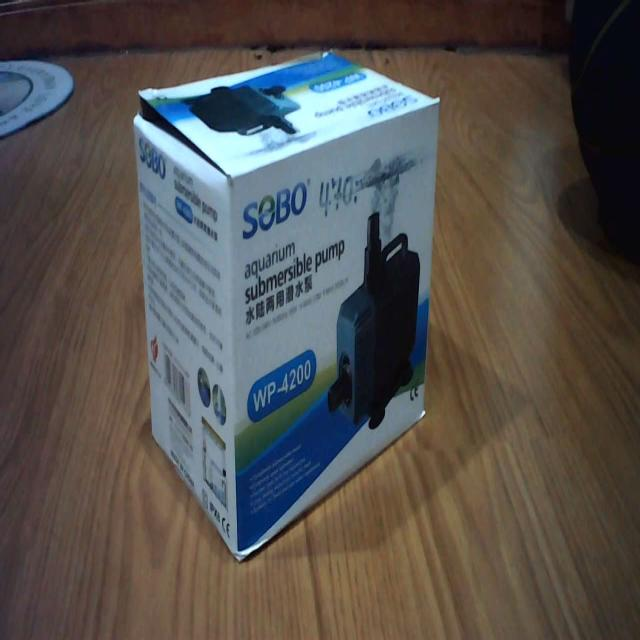SOBO_WP_4200: (130, 37, 447, 570)
